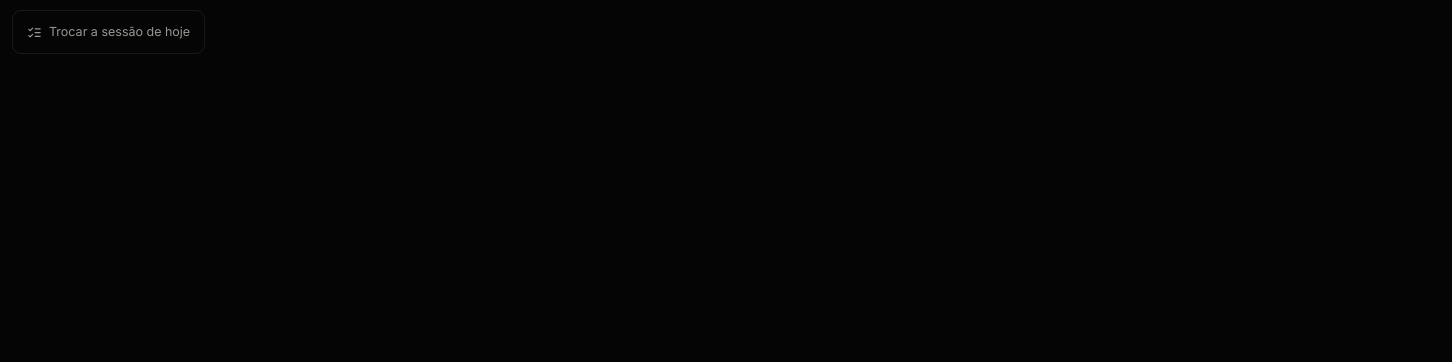
Test: começa fechado, e só busca as sessões ao abrir
Click the button with test id "escolher-sessao-abrir": (109,32) [12,10,205,54]
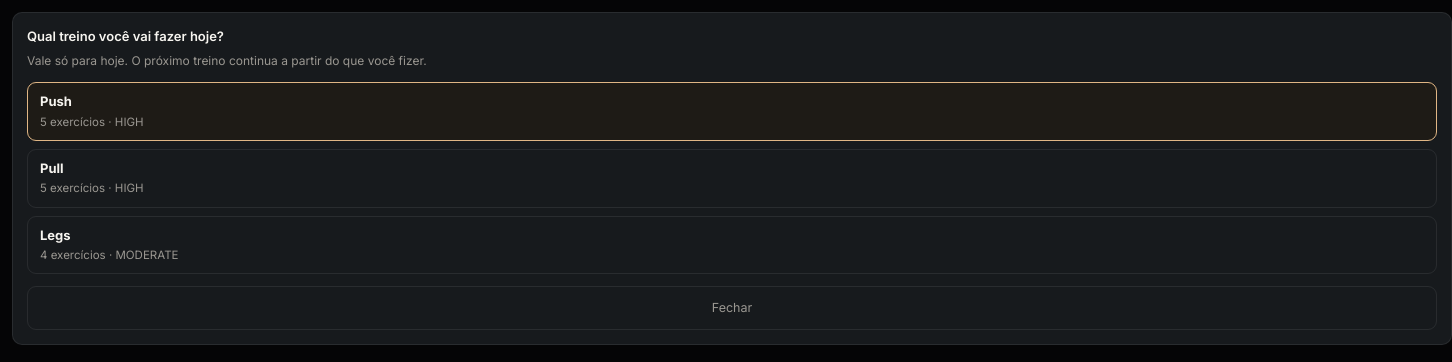
Expected: the element with test id "escolher-sessao" is shown
